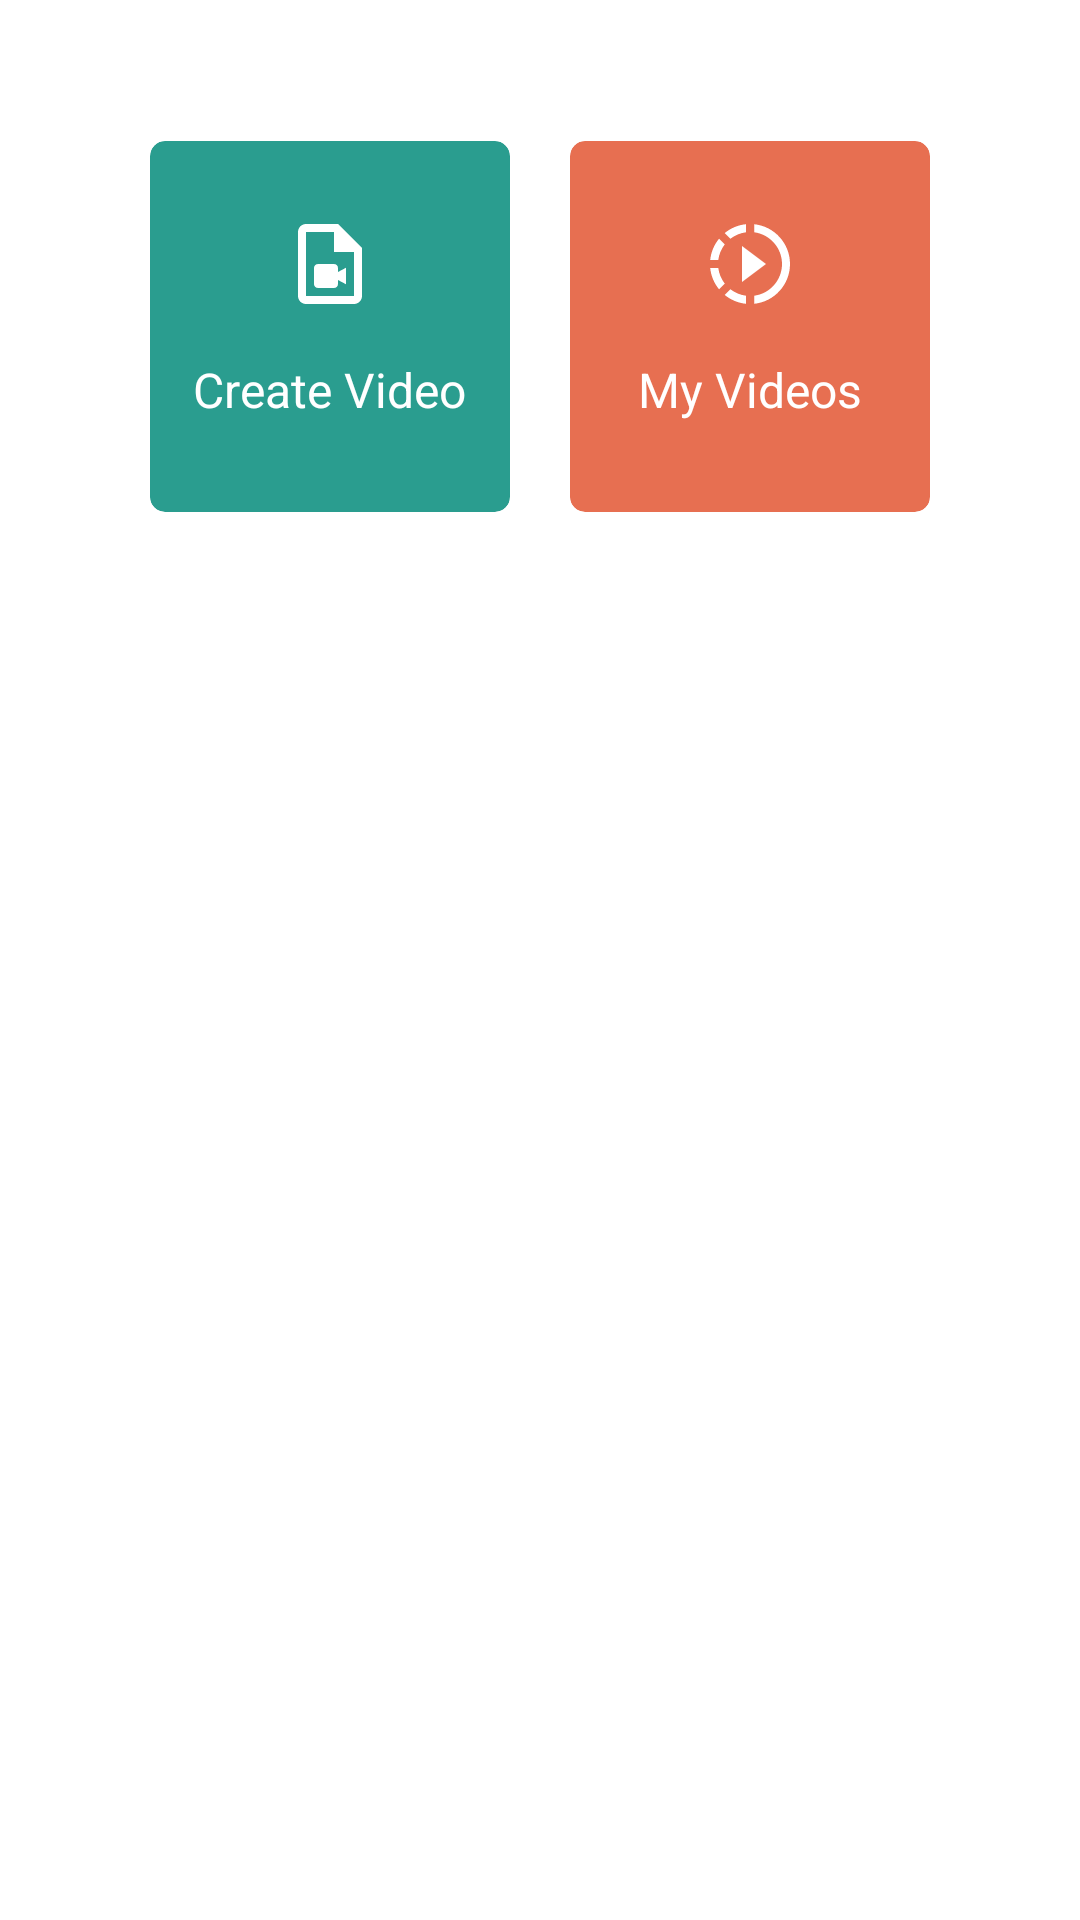

Icon click points for this 1080*1920 phone screenshot, format point (x, y):
slow motion video: point (750, 264)
video file: point (330, 264)
